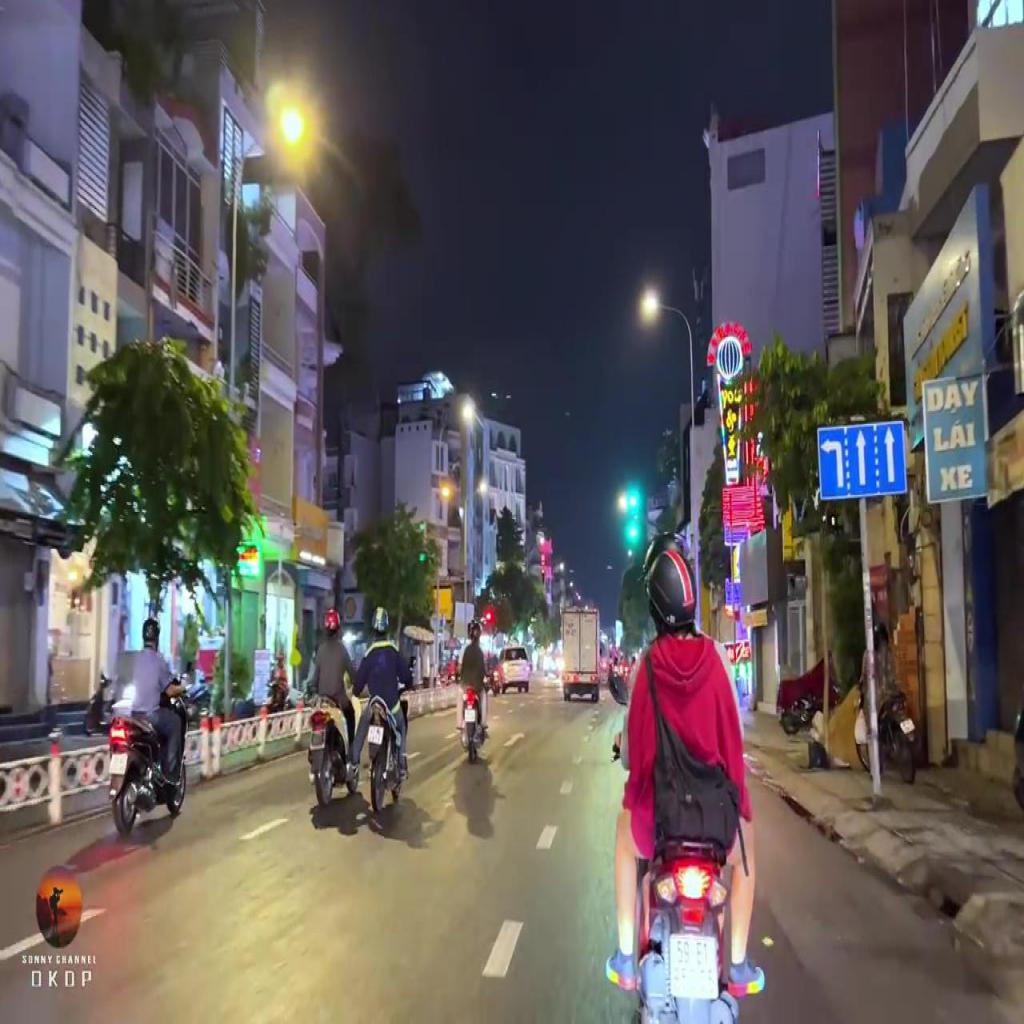huong_di_tren_moi_lan_duong_theo_vach_ke_duong: (817, 422, 907, 500)
